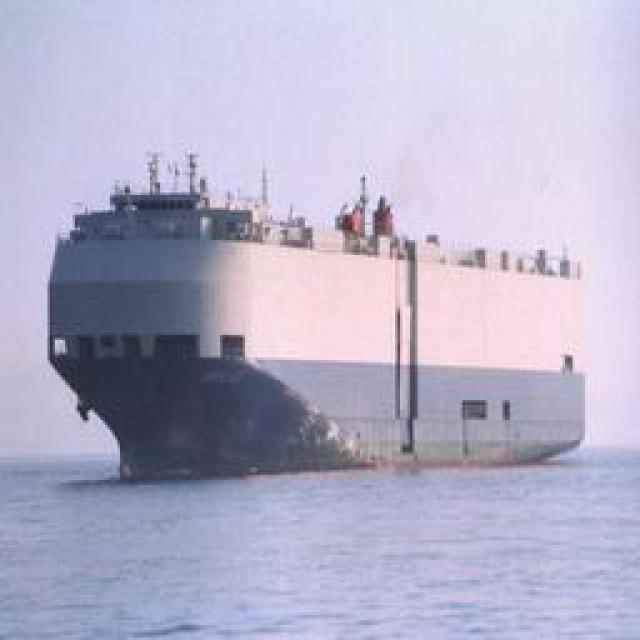Ship: (33, 126, 606, 486)
